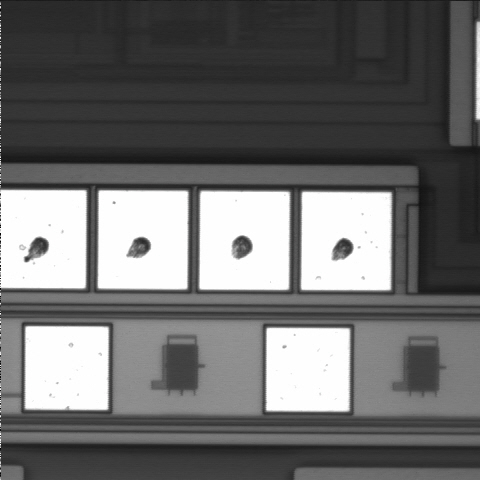pad: (199, 191, 290, 290), (98, 191, 188, 289), (301, 192, 391, 290), (25, 326, 109, 410), (266, 328, 350, 411)
